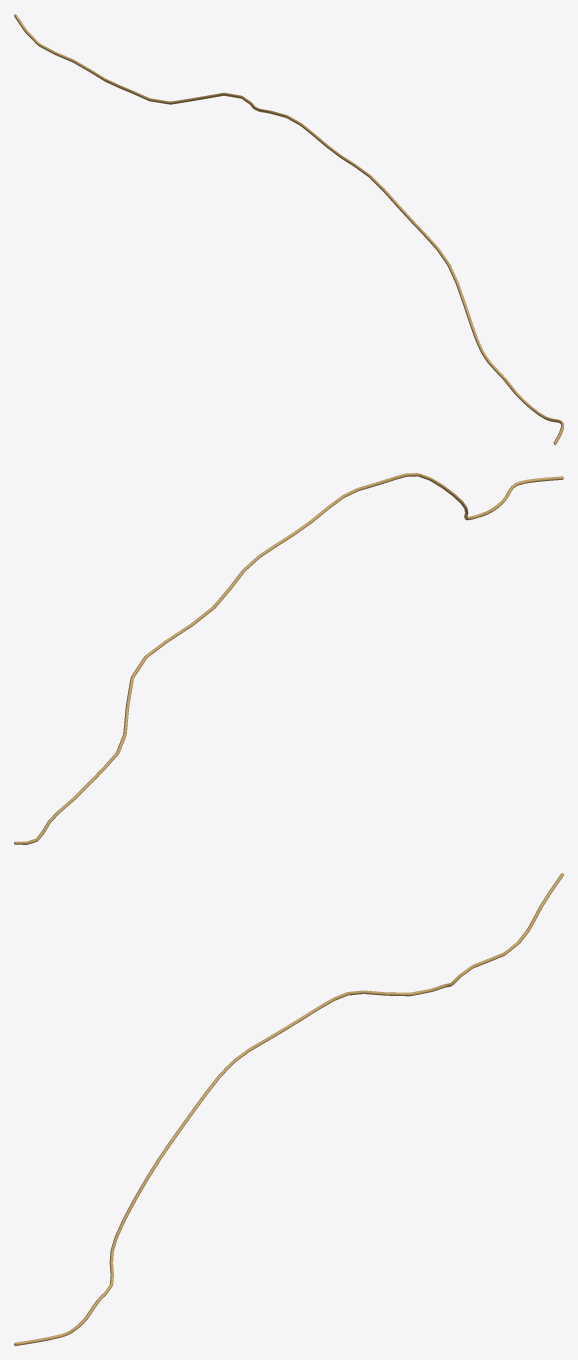
The picture shows the model from 3 angles, top to bottom: view 1: azimuth 30°, elevation 25°; view 2: azimuth 150°, elevation 25°; view 3: azimuth 330°, elevation 25°; orthographic projection. The views are drawn at different scales.
Parts seen in each view (by area): view 1: 右侧横突间韧带; view 2: 右侧横突间韧带; view 3: 右侧横突间韧带.
Part boxes in pixels (box(x1,y1,x2,y2)): 右侧横突间韧带: box(14, 14, 563, 444); 右侧横突间韧带: box(14, 473, 563, 844); 右侧横突间韧带: box(14, 873, 563, 1345).
Size of the model in its own units: 0.0506 by 0.1134 by 0.8324.
